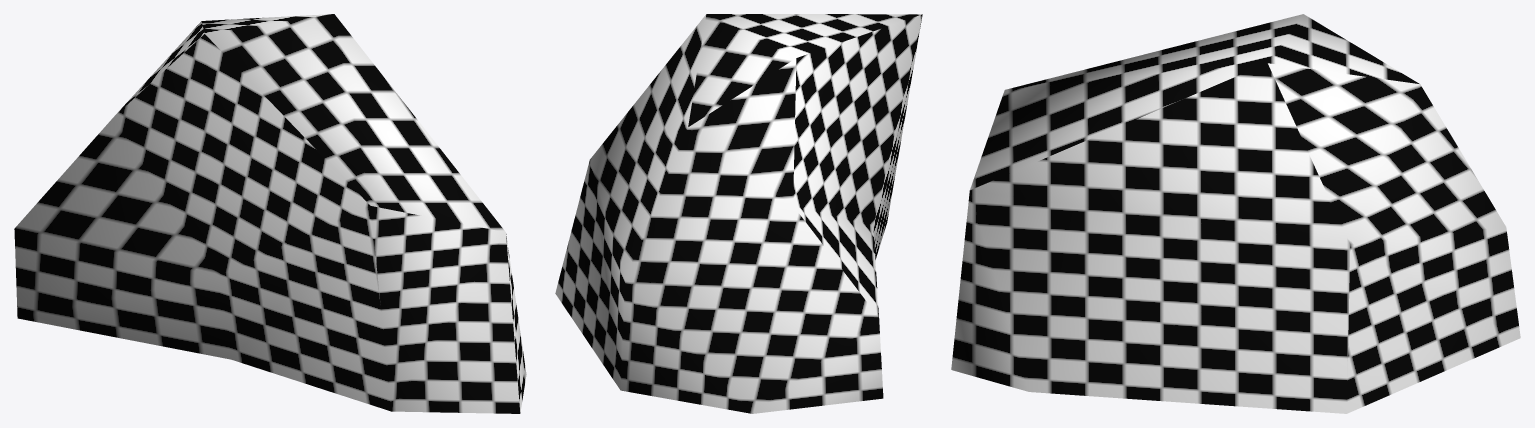
The model's file is nast20.dae.
The picture shows the model from 3 angles, left to right: view 1: azimuth 30°, elevation 25°; view 2: azimuth 150°, elevation 25°; view 3: azimuth 270°, elevation 25°; orthographic projection. The views are drawn at different scales.
Parts seen in each view (by area): view 1: stone04; view 2: stone04; view 3: stone04.
Part boxes in pixels (x1,y1,x2,y2): stone04: [14, 14, 526, 413]; stone04: [555, 14, 922, 413]; stone04: [951, 14, 1520, 413].
Bounding box in the file's own units: 0.4232 × 0.5632 × 0.3196.
1 material, 1 textured.
